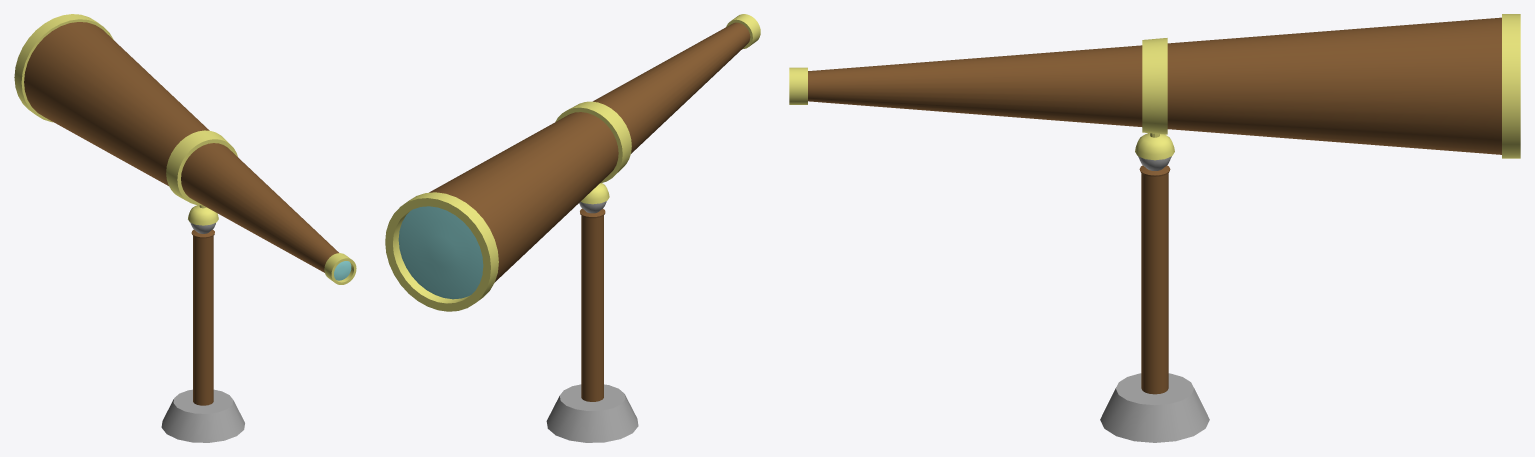
File: Telescopio Model test 2.fbx
3 views of the same model, side by side, from view 1: azimuth 30°, elevation 25°; view 2: azimuth 150°, elevation 25°; view 3: azimuth 270°, elevation 25° (orthographic). The views are drawn at different scales.
Visible parts, largest first — view 1: Telescope, Tele_Stand; view 2: Telescope, Tele_Stand; view 3: Telescope, Tele_Stand.
Boxes of the visible parts, x1=… form: Telescope: x1=14, y1=14, x2=356, y2=284; Tele_Stand: x1=161, y1=223, x2=244, y2=442; Telescope: x1=385, y1=14, x2=760, y2=311; Tele_Stand: x1=546, y1=201, x2=638, y2=442; Telescope: x1=789, y1=14, x2=1520, y2=160; Tele_Stand: x1=1100, y1=156, x2=1209, y2=442.
Size of the model in its own units: 213 by 42.11 by 128.
